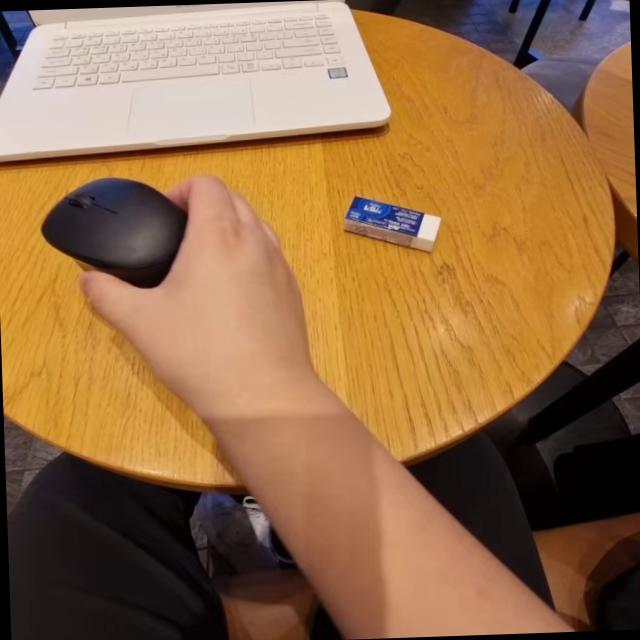eraser: (341, 186, 446, 265)
grab_mouse: (39, 158, 307, 407)
hand: (152, 164, 328, 420)
mouse: (30, 157, 202, 297)
